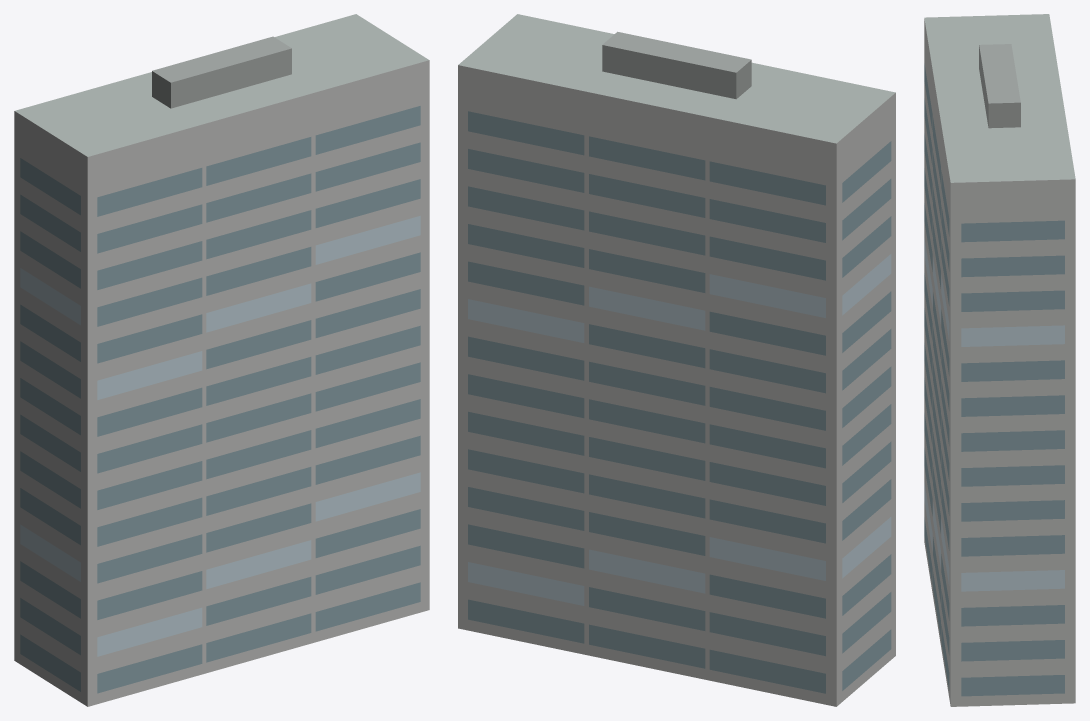
File: fallback-godeok-raemian-hillstate-104.glb
3 views of the same model, side by side, from view 1: azimuth 30°, elevation 25°; view 2: azimuth 150°, elevation 25°; view 3: azimuth 270°, elevation 25° (orthographic). The views are drawn at different scales.
Visible parts, largest first — view 1: fallback-godeok-raemian-hillstate-104; view 2: fallback-godeok-raemian-hillstate-104; view 3: fallback-godeok-raemian-hillstate-104.
Part boxes in pixels (x1,y1,x2,y2): fallback-godeok-raemian-hillstate-104: (14, 14, 429, 706); fallback-godeok-raemian-hillstate-104: (458, 14, 895, 706); fallback-godeok-raemian-hillstate-104: (924, 14, 1075, 706).
Size of the model in its own units: 31.03 by 47 by 11.76.
